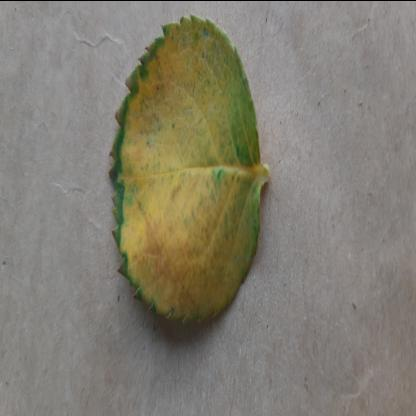black-spot: (107, 10, 263, 340)
